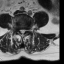CCS_normal: (21, 27, 23, 36)
LFS_severe_stenosis: (25, 27, 28, 34)
LLS_normal: (23, 27, 25, 34)
RFS_severe_stenosis: (16, 26, 19, 33)
RLS_stenosis: (19, 27, 21, 34)
